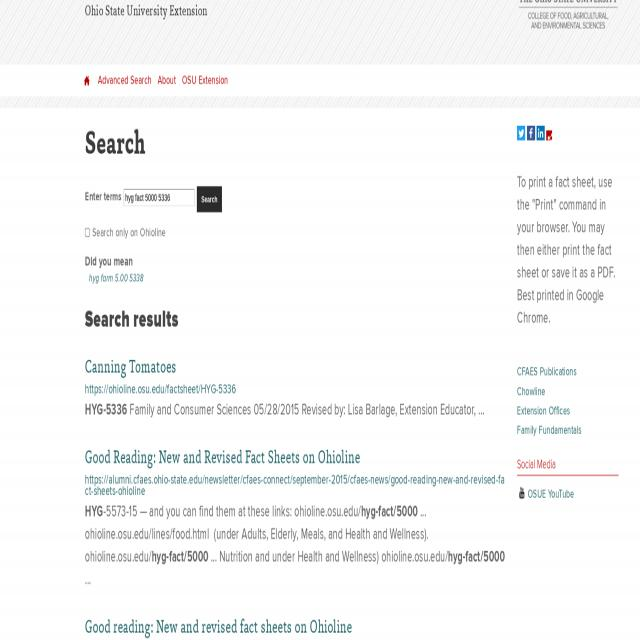button: (196, 186, 222, 212), (517, 126, 525, 140), (527, 126, 535, 140), (537, 126, 545, 140), (84, 75, 90, 86)
field: (124, 188, 194, 206), (85, 228, 91, 238)
